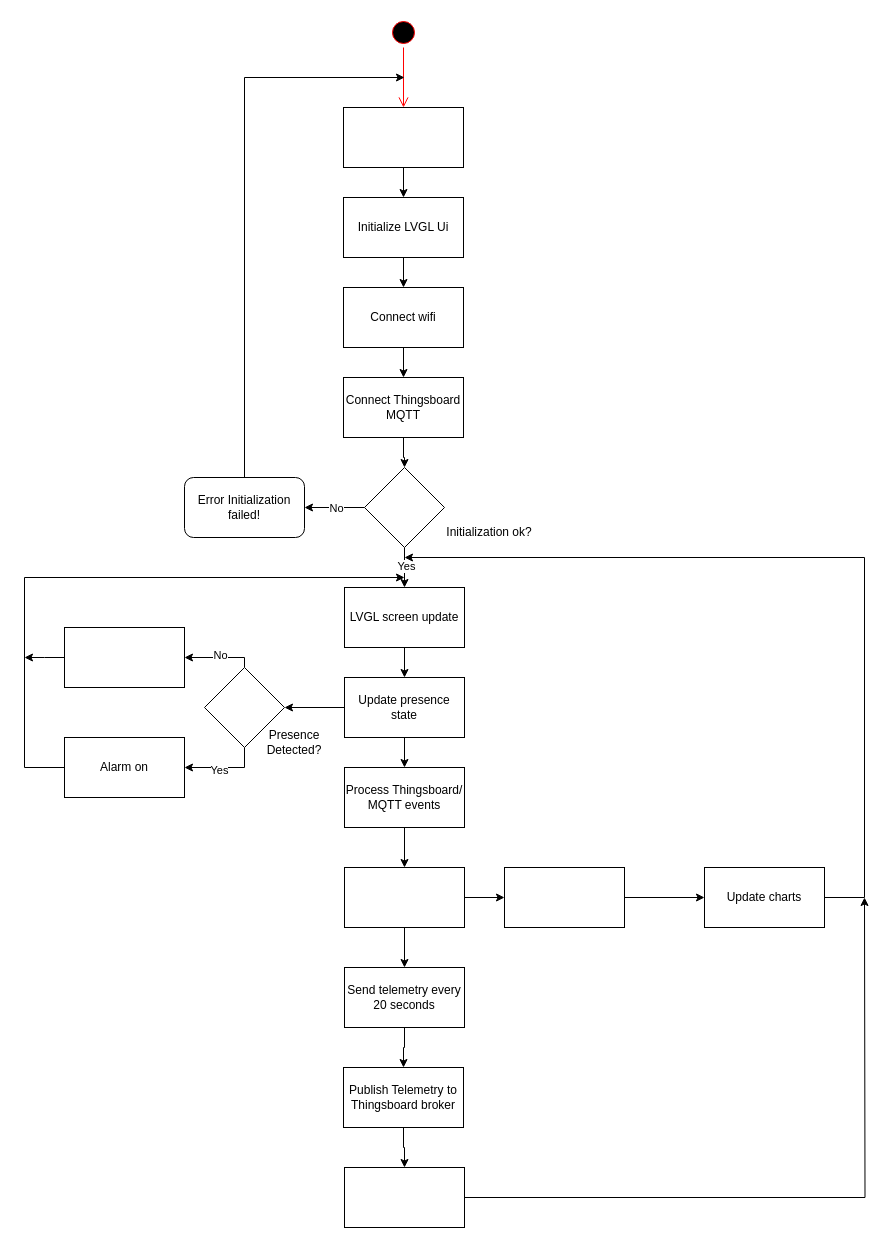
This 891x1245 diagram has some shape labels left out. Here are the shapes that lost their labels. From the top down, the centre of each, then its label:
(403,137): Initialize peripherals (GPIO, Serial, sensors, display)
(124,657): Alarm off
(404,897): Read sensor event every 1 second
(564,897): Store latest sensro data
(404,1197): Rule Chain handler
